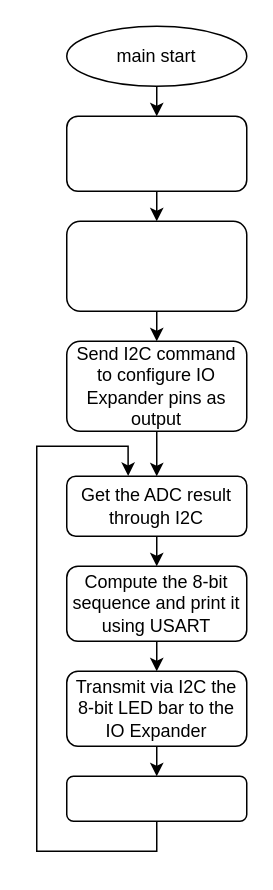
Some shapes in this 273 by 890 pixel diagram are drawn without their labels. Each missing label, with the centre of its shape:
"delay" belongs at point (156, 798).
"Initialize the system - I2C, USART" belongs at point (156, 153).
"Scan for I2C client devices and print a message when receive ACK" belongs at point (156, 265).
